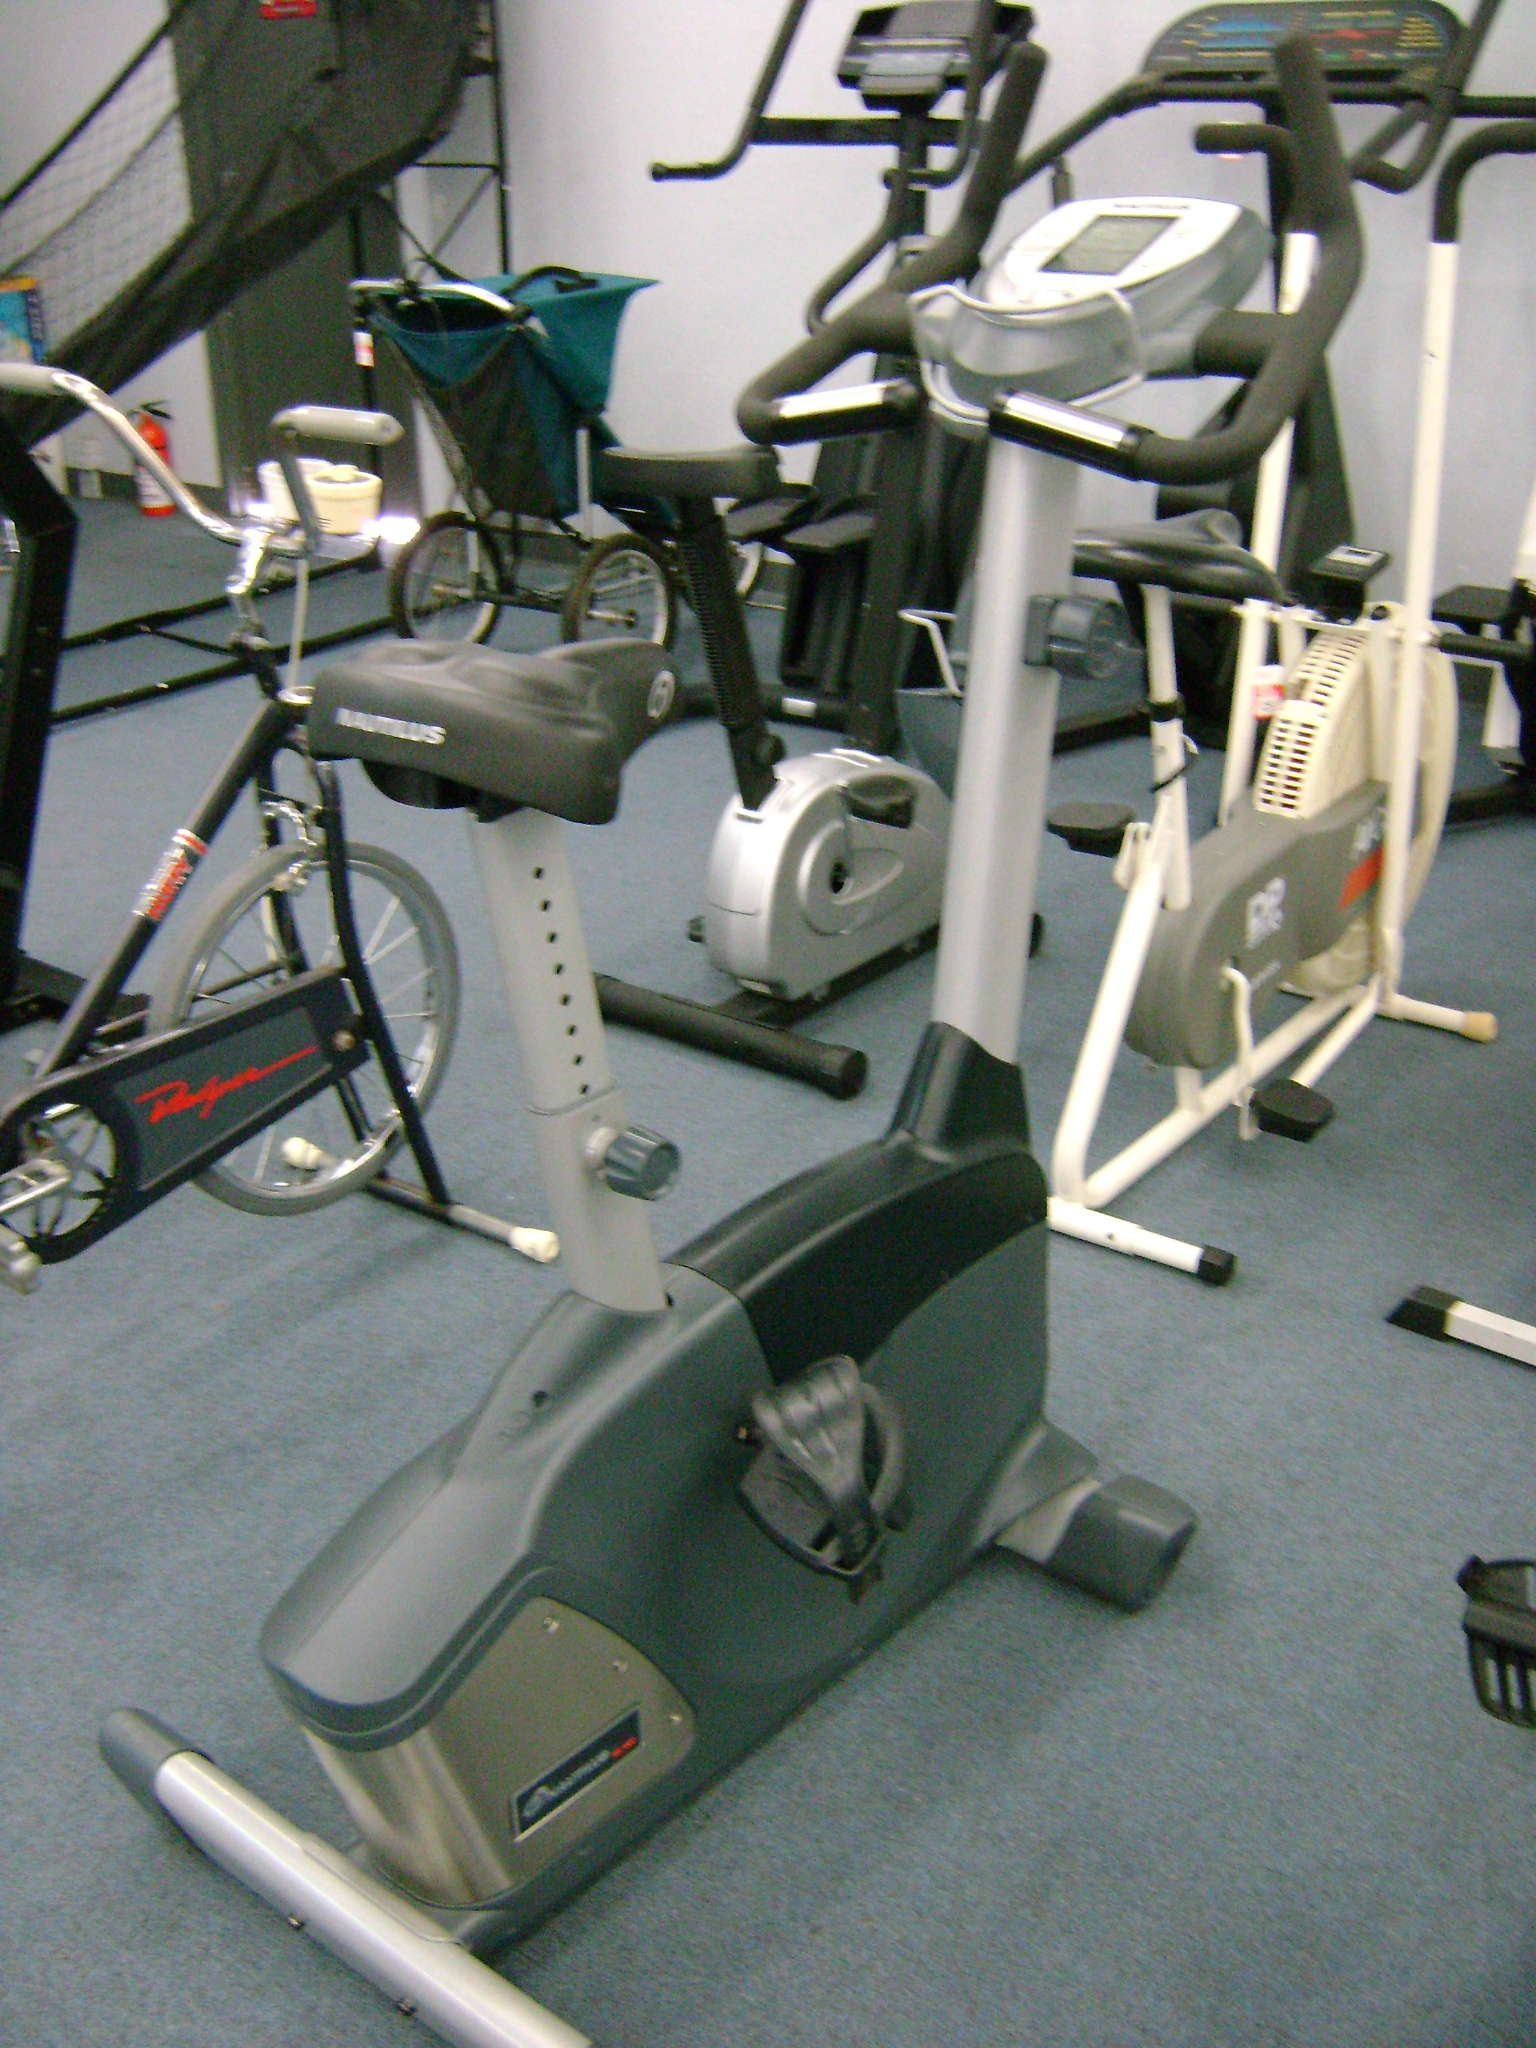gym_bike: (131, 39, 1338, 2008)
